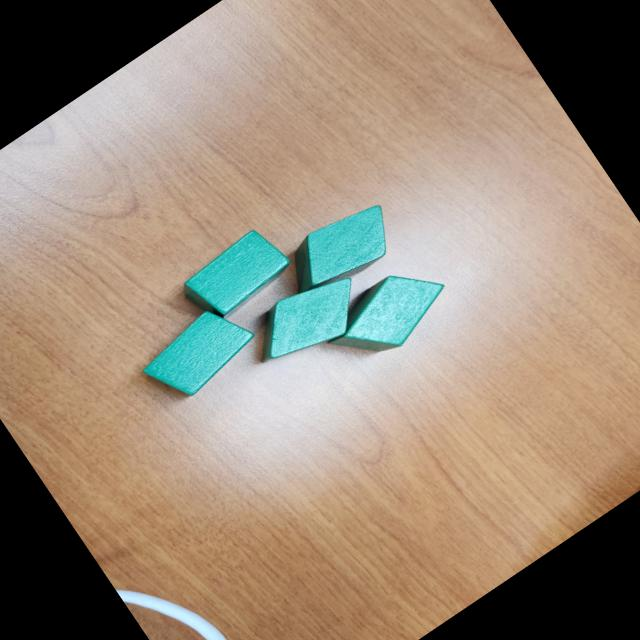green: (319, 250, 461, 376), (237, 260, 373, 382), (134, 293, 264, 410), (275, 192, 405, 307), (174, 222, 296, 330)
